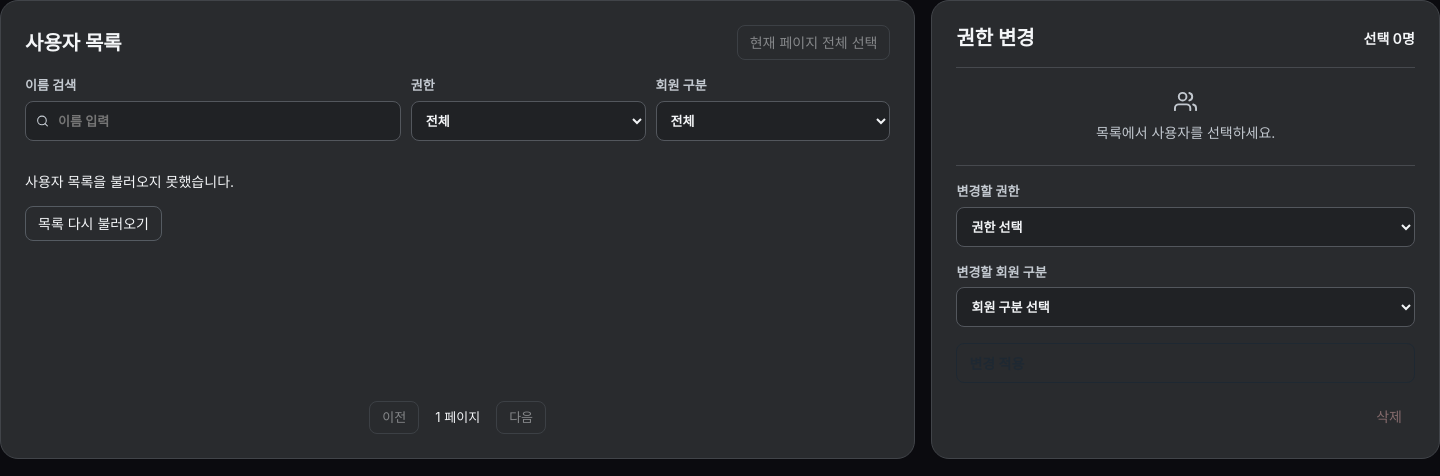
Test: 목록 조회 실패 후 같은 필터로 다시 불러올 수 있다
Expected: the message shows "사용자 목록을 불러오지 못했습니다.", [25,172,234,190]
Click the button "목록 다시 불러오기": (93,223) [25,206,162,240]
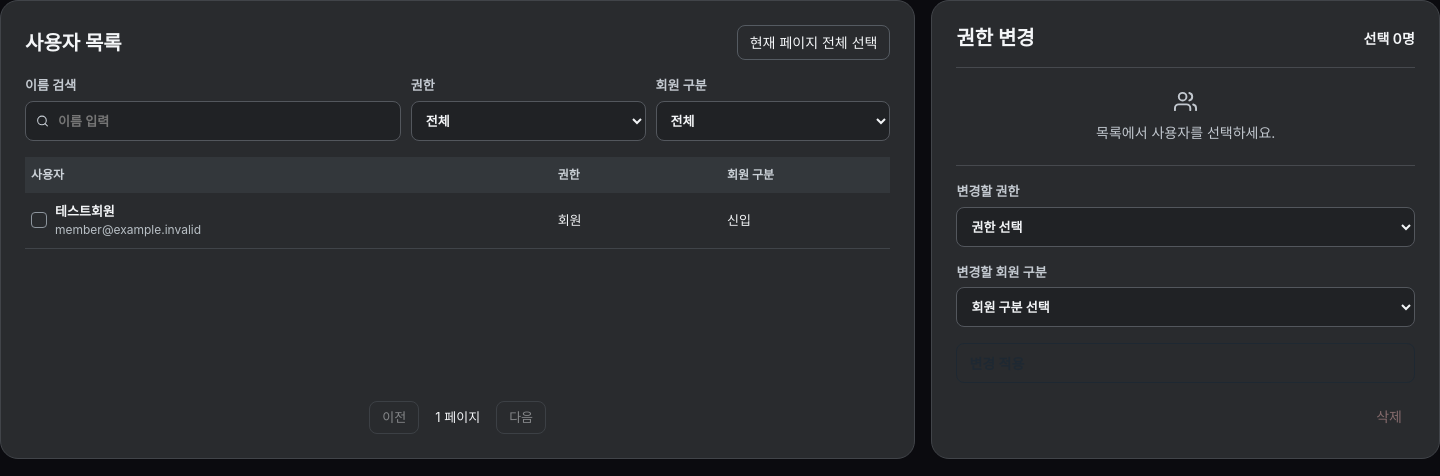
Expected: the text "테스트회원" is shown, [55,202,115,218]
Expected: the message "사용자 목록을 불러오지 못했습니다. 목록 다시 불러오기" is gone
